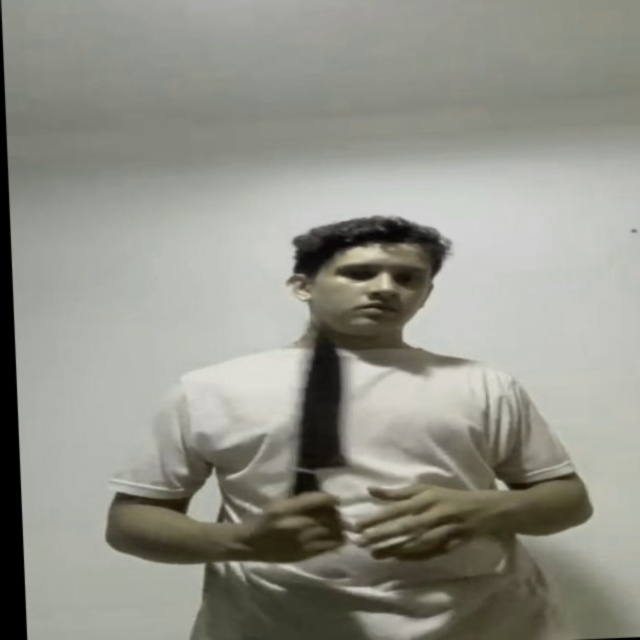Sharp-Object: (285, 320, 352, 474)
